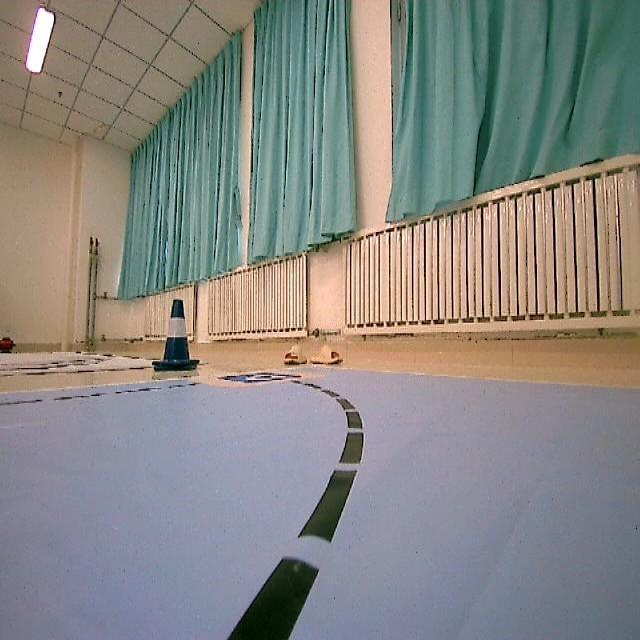obstacle: (151, 291, 200, 380)
